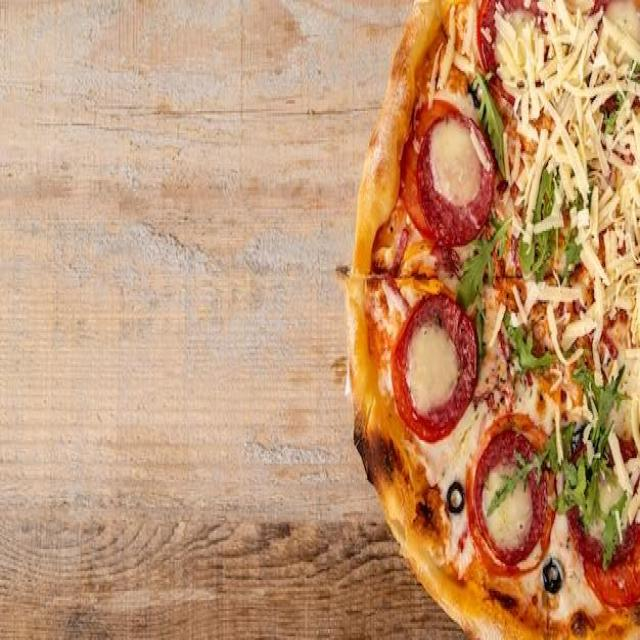basil: (569, 361, 628, 574), (488, 425, 576, 518), (455, 214, 525, 311), (458, 212, 514, 310), (518, 158, 559, 284), (472, 74, 510, 179), (502, 311, 558, 373), (600, 61, 640, 130), (564, 224, 581, 290), (474, 314, 488, 376), (602, 105, 616, 134), (586, 185, 593, 208), (575, 186, 581, 210)
olive: (542, 559, 564, 596), (445, 487, 466, 514), (468, 81, 479, 108)
pepperoni: (391, 291, 478, 442), (474, 430, 548, 566), (565, 436, 640, 566), (418, 114, 492, 244), (480, 0, 560, 99), (589, 0, 613, 31)
pizza: (336, 0, 640, 640)
